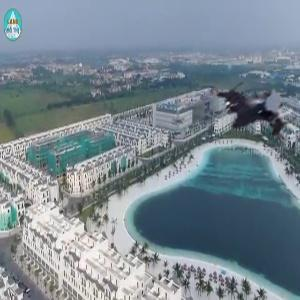drone: (195, 66, 299, 170)
